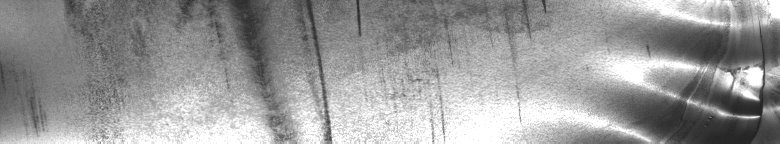ke: (611, 16, 776, 136)
